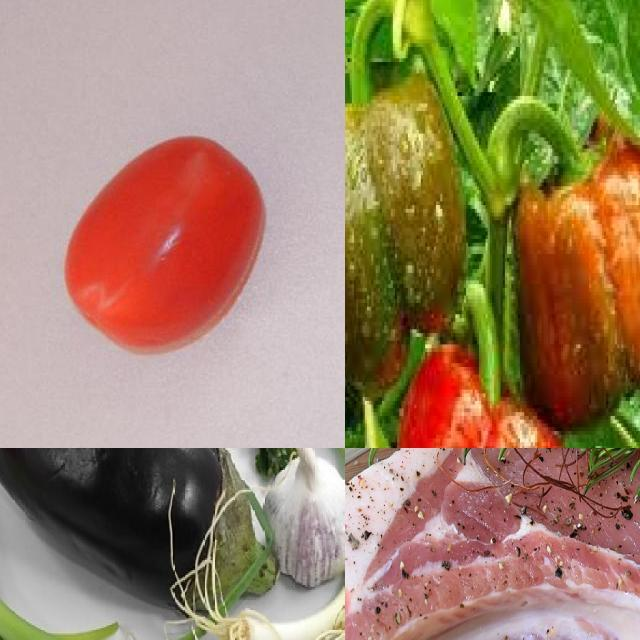bell_pepper: (346, 70, 475, 395)
eggplant: (1, 449, 277, 622)
garlic: (266, 449, 346, 587)
tomato: (46, 116, 285, 381)
